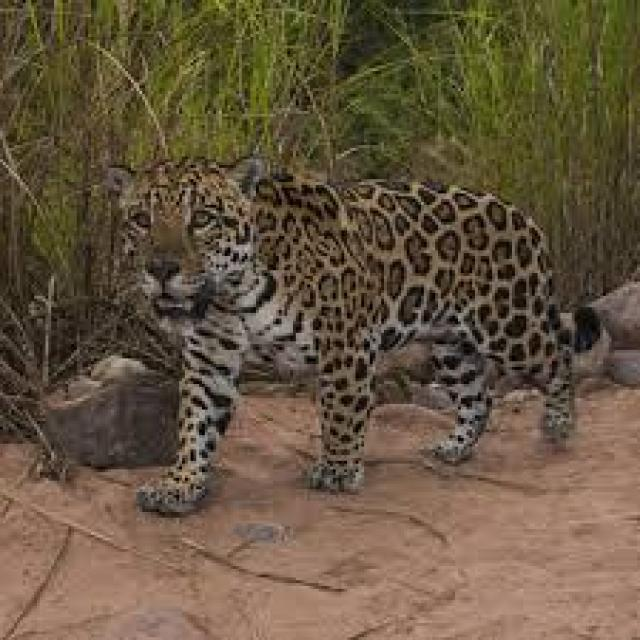Jaguar: (105, 131, 606, 523)
